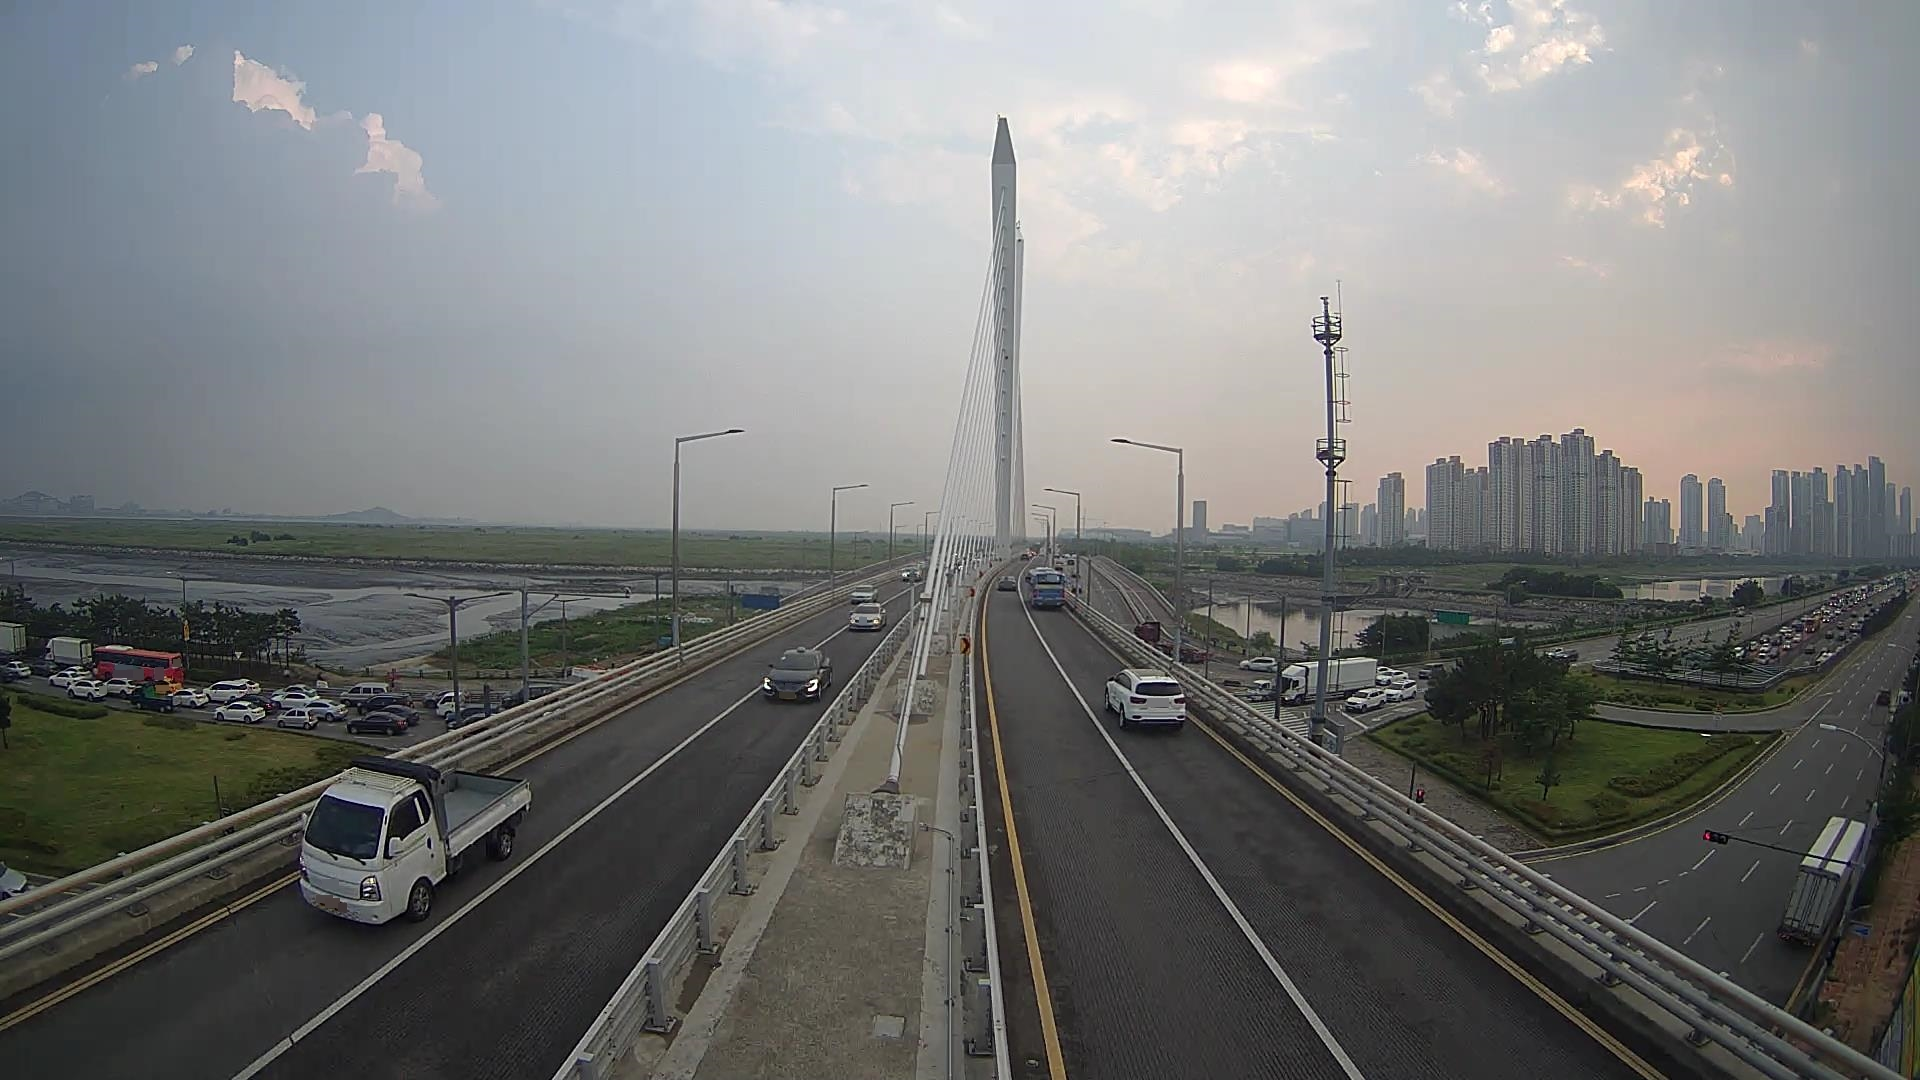정상차량: (299, 756, 532, 925)
